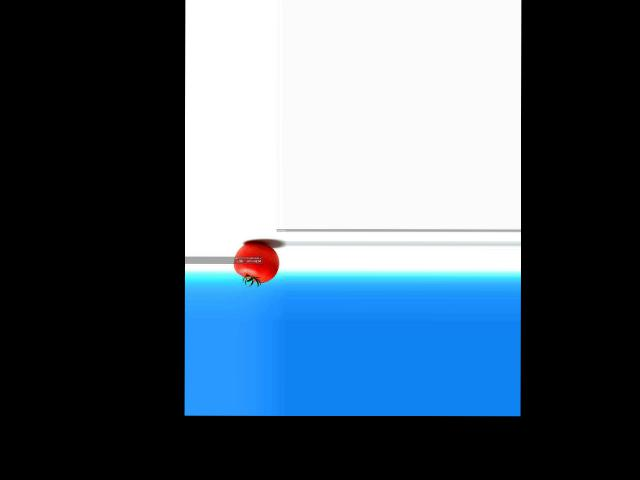tomato: (232, 243, 278, 282)
